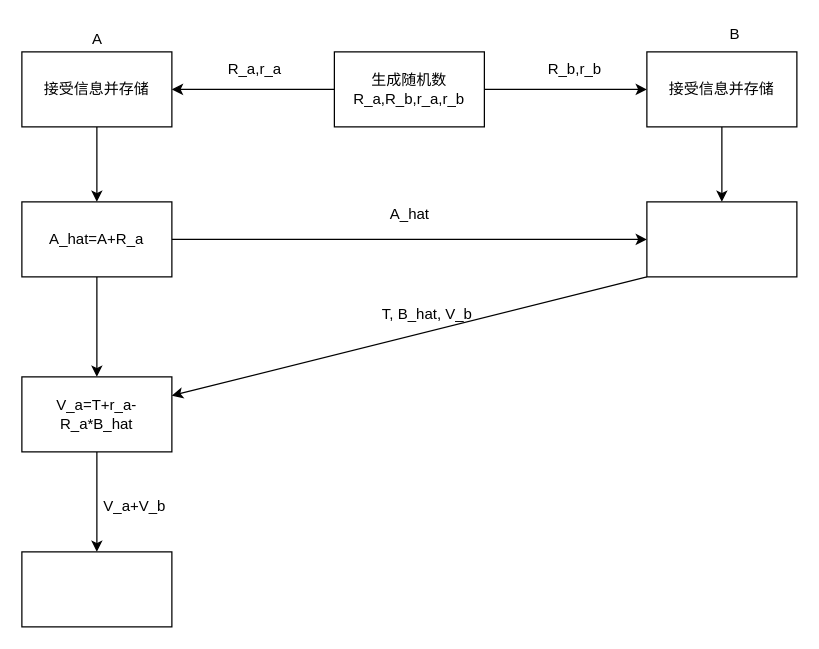
Some shapes in this 819 by 649 pixel diagram are drawn without their labels. The shapes that lost their labels are listed below. From the top down, each one's box as (x1, y1, x2, y2) in pixels, then its label:
(646, 201, 797, 277): T=A_hat*B+r_b-V_b B_hat=B+R_b
(21, 551, 172, 627): 接受并存储
